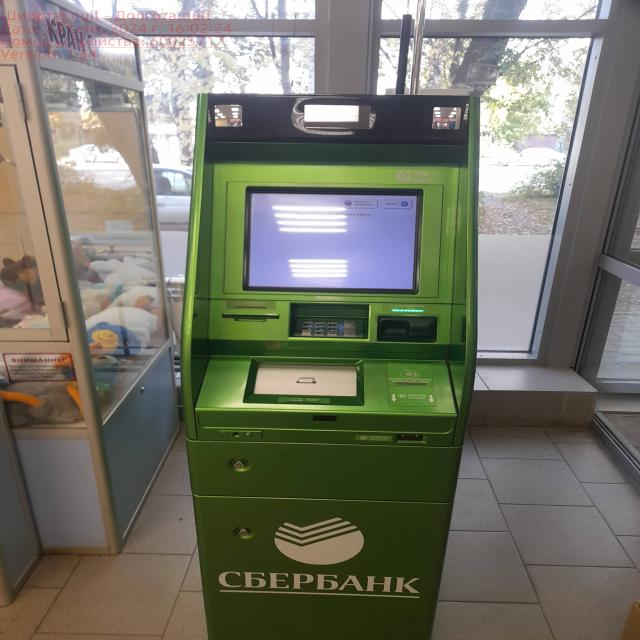bank: (184, 87, 485, 640)
